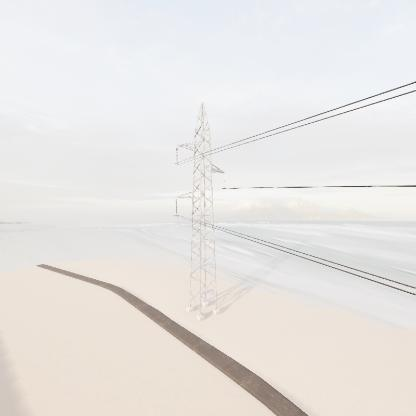tower: (172, 98, 230, 323)
